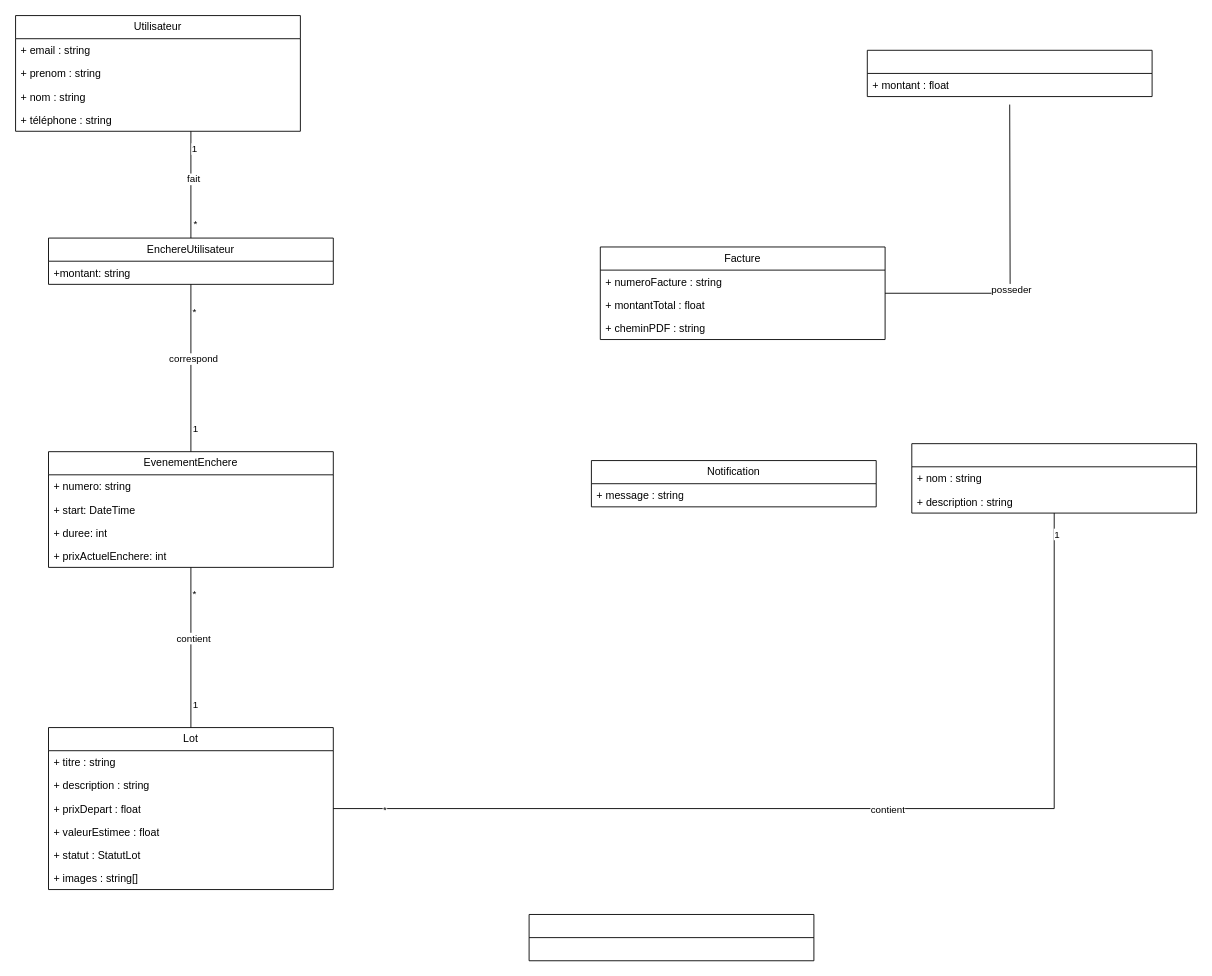
Some shapes in this 1212 by 976 pixel diagram are drawn without their labels. The box of each missing label's shape, as (x1, y1, x2, y2) in pixels:
Categorie: (911, 443, 1197, 513)
Chatbot: (528, 914, 814, 961)
Paiement: (866, 49, 1152, 97)
